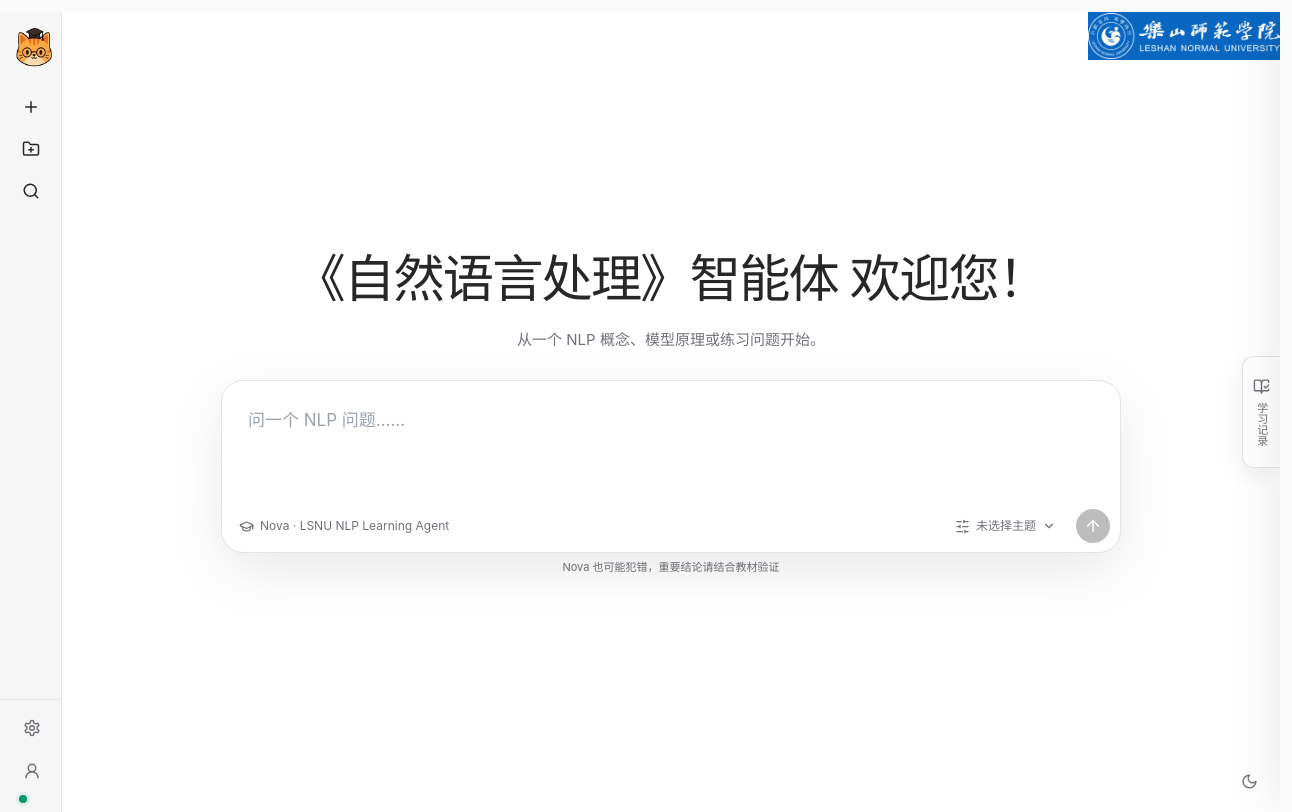
student stream rendering › keeps the wide school logo in the header flow and the theme control clear of learning records
Expected: the header with alt text "学校校徽" is shown, x1=1088 y1=12 x2=1280 y2=60
Expected: the 8th element named "切换主题" is shown, x1=1232 y1=764 x2=1266 y2=798
Click the button "学习记录" at (1261, 412), box x1=1242 y1=356 x2=1280 y2=468
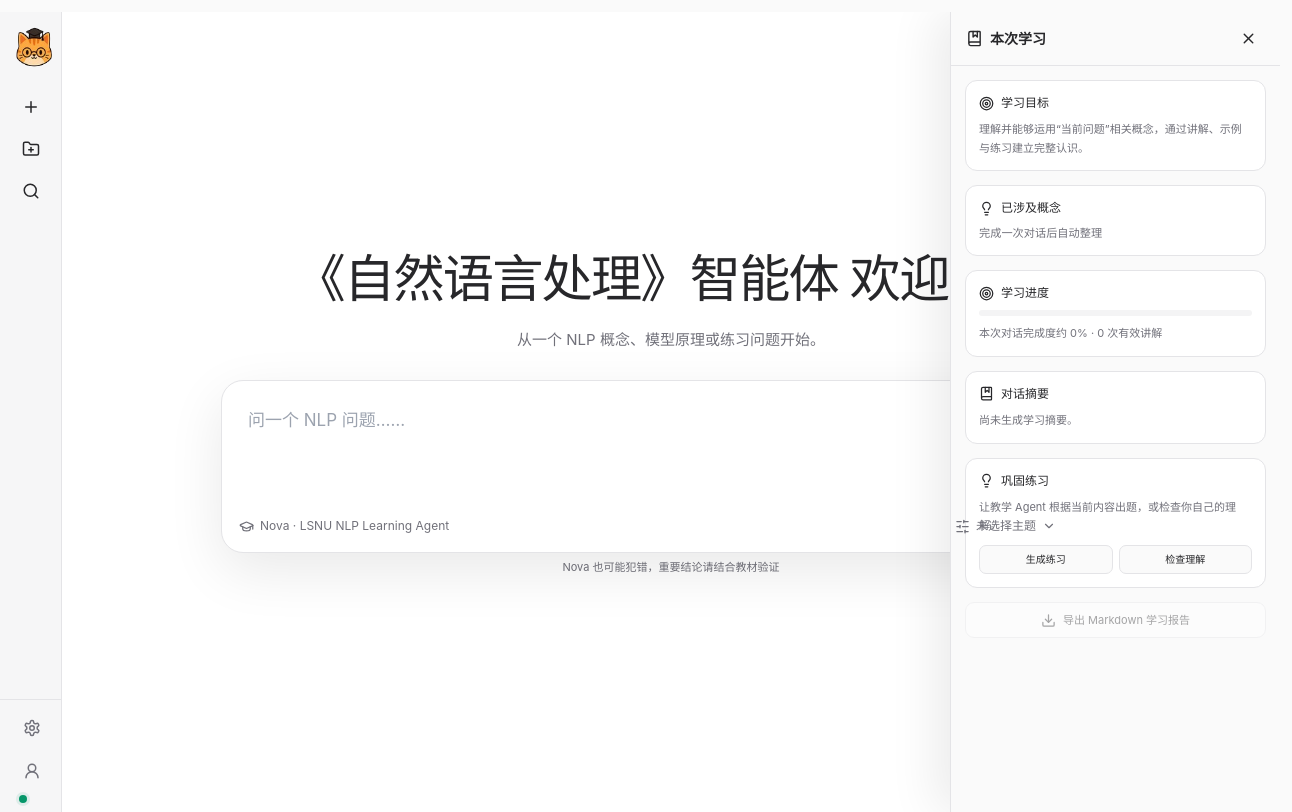
Expected: the element with class "open" that starts with "本次学习" is shown, x1=950 y1=12 x2=1280 y2=811
